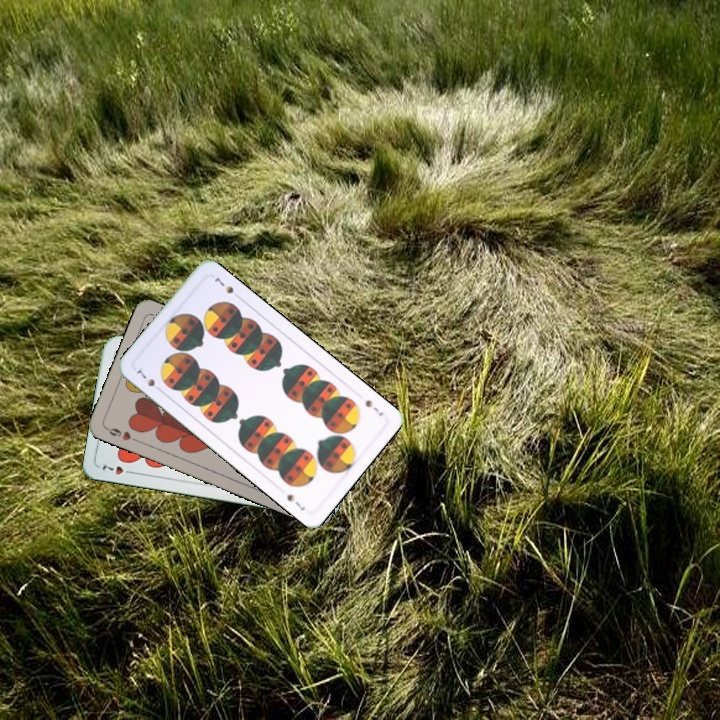H7: (98, 460, 137, 477)
H9: (102, 424, 141, 444)
S7: (132, 365, 165, 395), (361, 396, 386, 419)
